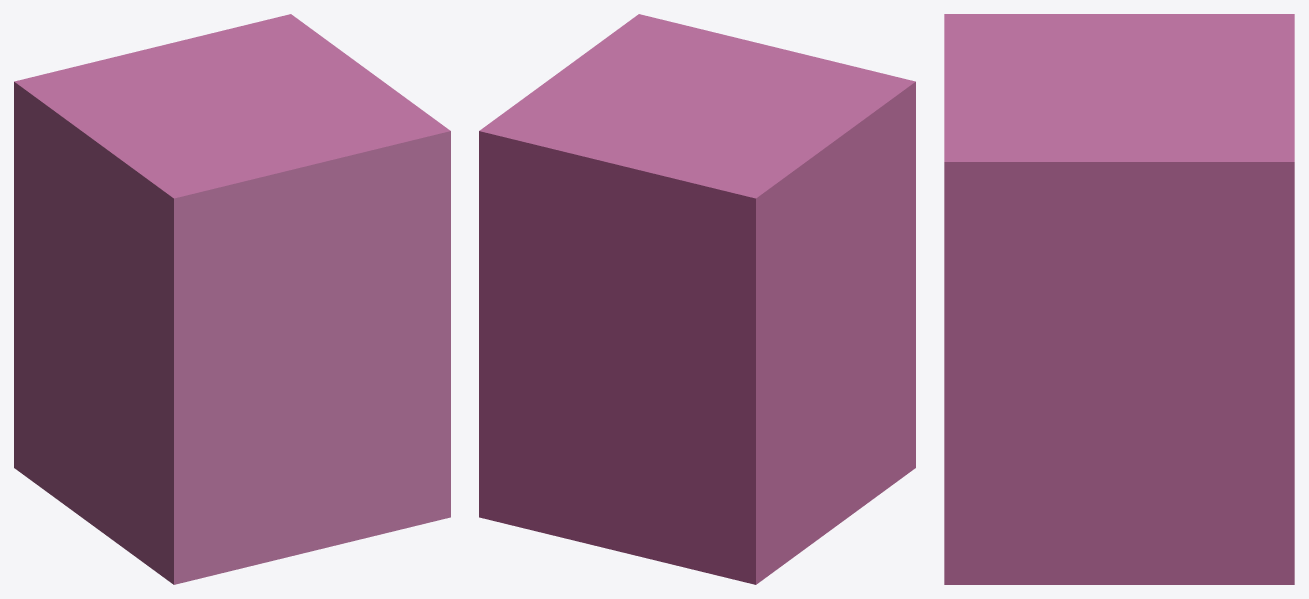
Rendered from squidgame_props_platform5_pink.fbx.
3 views of the same model, side by side, from view 1: azimuth 30°, elevation 25°; view 2: azimuth 150°, elevation 25°; view 3: azimuth 270°, elevation 25° (orthographic). The views are drawn at different scales.
Parts seen in each view (by area): view 1: squidgame_props_platform5_pink; view 2: squidgame_props_platform5_pink; view 3: squidgame_props_platform5_pink.
Boxes of the visible parts, x1,y1,x2,y2 form: squidgame_props_platform5_pink: (14, 14, 450, 584); squidgame_props_platform5_pink: (479, 14, 915, 584); squidgame_props_platform5_pink: (944, 14, 1294, 584).
Bounding box in the file's own units: 0.75 × 1 × 0.75.
